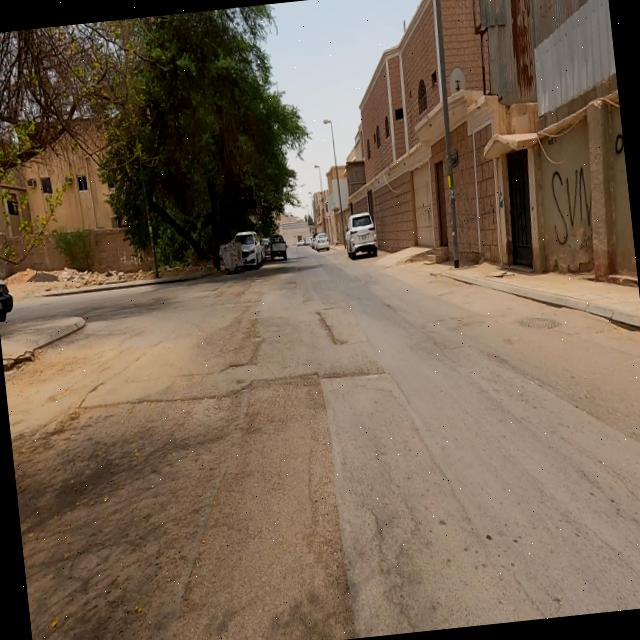Graffiti: (550, 167, 596, 247), (614, 132, 623, 153)
